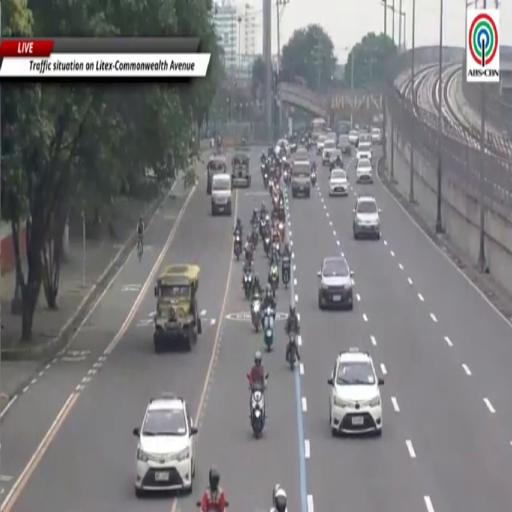bus: (312, 118, 327, 133)
car: (134, 393, 197, 497), (328, 348, 383, 436), (318, 256, 353, 310), (353, 196, 380, 239), (211, 174, 232, 215), (291, 160, 311, 198), (330, 169, 348, 196), (356, 158, 372, 183), (322, 140, 336, 165), (329, 148, 342, 169), (357, 141, 372, 159), (275, 139, 290, 156), (339, 135, 351, 155), (292, 146, 308, 161), (316, 134, 326, 155), (358, 132, 371, 148), (372, 127, 381, 143), (349, 130, 358, 145), (326, 132, 336, 143)
jeepney: (154, 265, 201, 353), (207, 155, 227, 195), (232, 152, 250, 187)
motorcycle: (250, 386, 266, 438), (262, 307, 275, 351), (286, 332, 297, 370), (268, 262, 279, 296), (251, 297, 261, 332), (243, 269, 253, 299), (282, 256, 290, 289), (234, 233, 242, 261), (196, 502, 217, 511), (270, 242, 280, 259), (263, 233, 270, 255), (259, 218, 266, 238), (252, 229, 258, 248), (310, 171, 317, 186), (279, 221, 284, 239), (284, 170, 289, 186), (264, 171, 268, 188), (261, 164, 266, 175)
